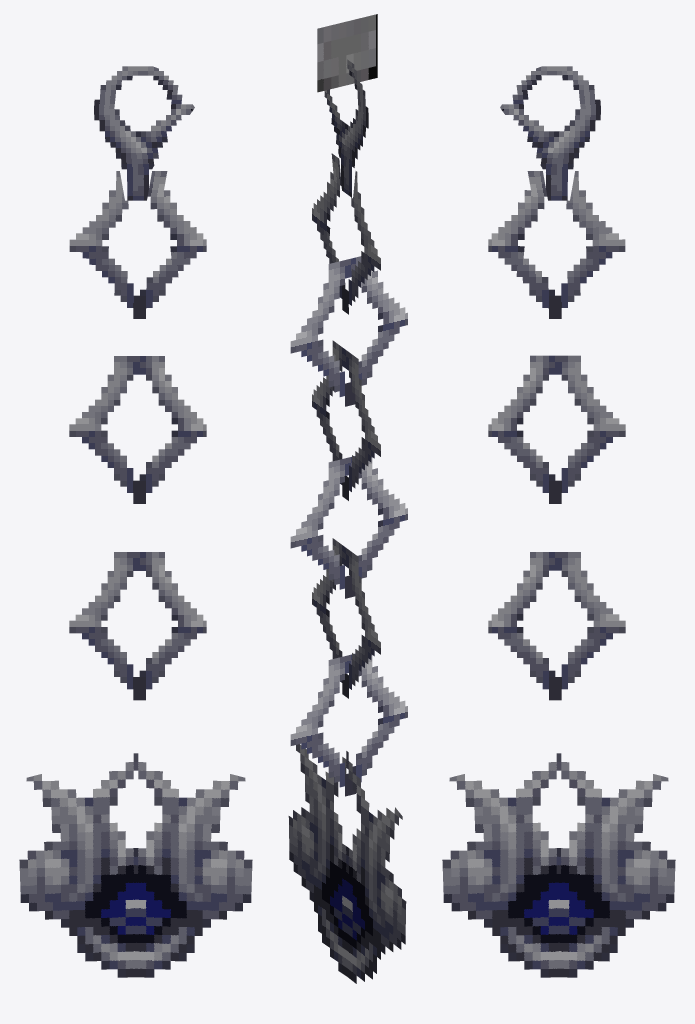
Rendered from stormfall_keychain.obj.
The picture shows the model from 3 angles, left to right: view 1: azimuth 90°, elevation 25°; view 2: azimuth 210°, elevation 25°; view 3: azimuth 270°, elevation 25°; orthographic projection.
Visible parts, largest first — view 1: keychain; view 2: keychain; view 3: keychain.
Part boxes in pixels (bbox=[...]): keychain: bbox=[19, 66, 252, 977]; keychain: bbox=[288, 14, 407, 983]; keychain: bbox=[442, 66, 675, 977].
Size of the model in its own units: 5.04 by 39.31 by 8.85.
